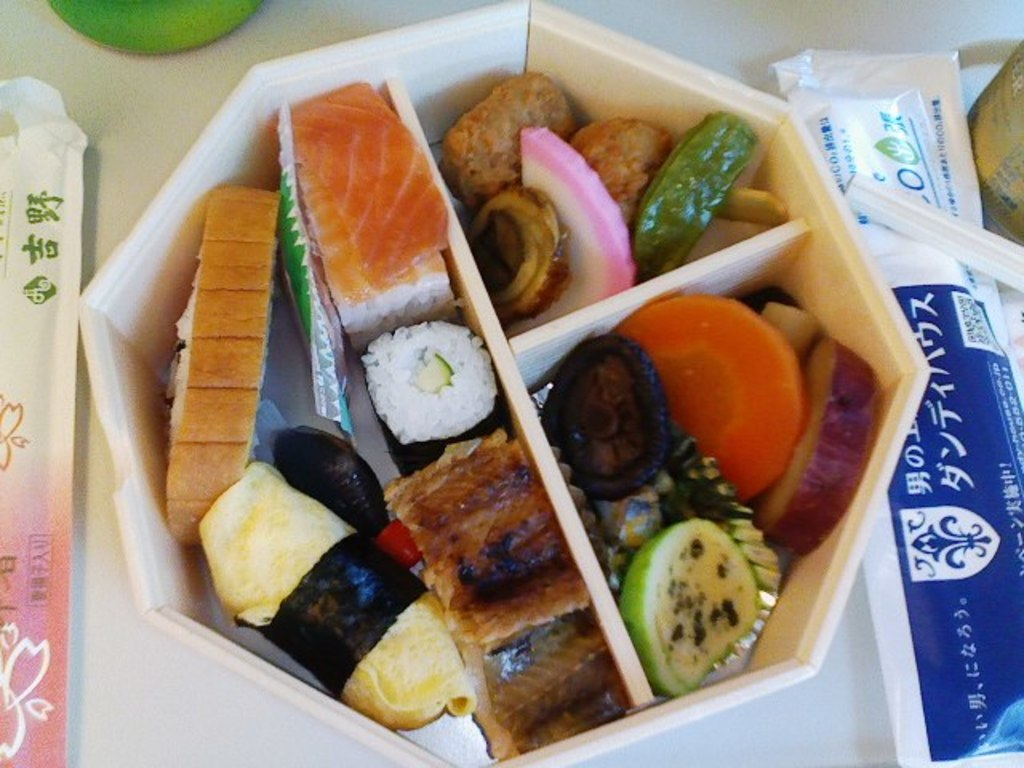sushi: (165, 85, 622, 754), (283, 80, 461, 357), (368, 317, 498, 453)
